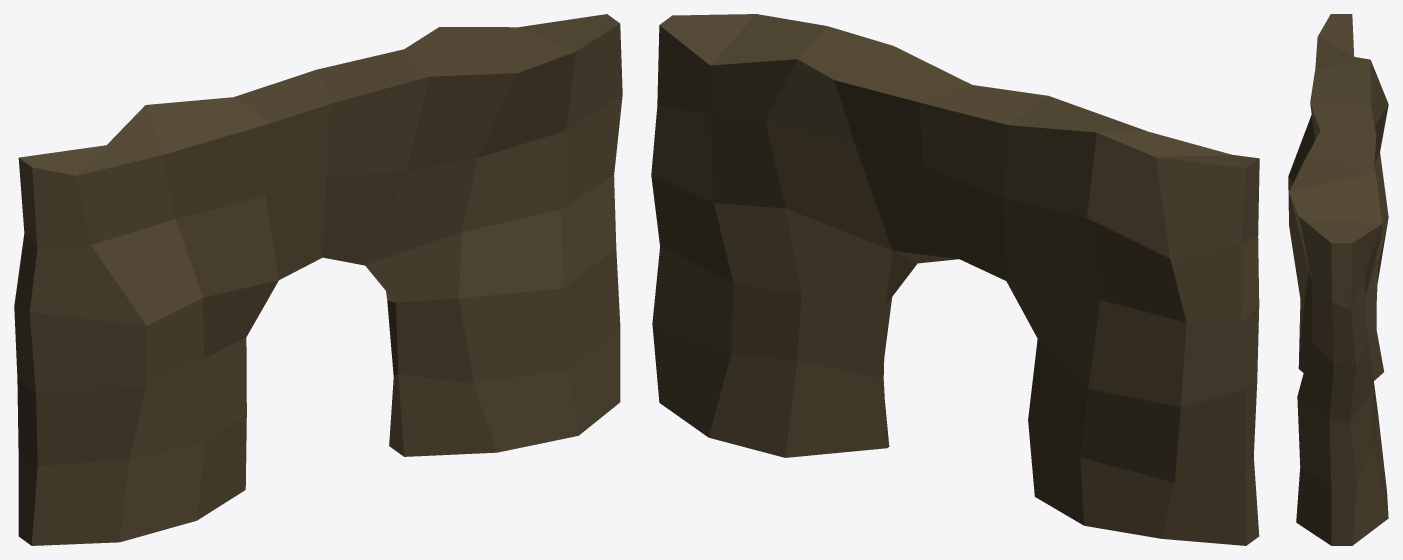
Rendered from MidOpening.S.fbx.
3 views of the same model, side by side, from view 1: azimuth 30°, elevation 25°; view 2: azimuth 150°, elevation 25°; view 3: azimuth 270°, elevation 25° (orthographic). The views are drawn at different scales.
Visible parts, largest first — view 1: Mid_Wall Opening.S; view 2: Mid_Wall Opening.S; view 3: Mid_Wall Opening.S.
Boxes of the visible parts, left/top/right/bottom form: Mid_Wall Opening.S: left=14, top=14, right=622, bottom=545; Mid_Wall Opening.S: left=651, top=14, right=1259, bottom=545; Mid_Wall Opening.S: left=1288, top=14, right=1388, bottom=545.
Size of the model in its own units: 1314 by 840 by 240.
